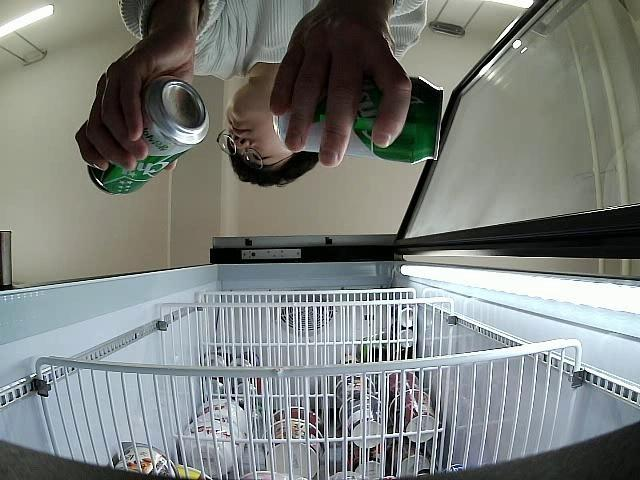12_chilsungCider: (271, 73, 446, 166), (85, 76, 212, 198)
